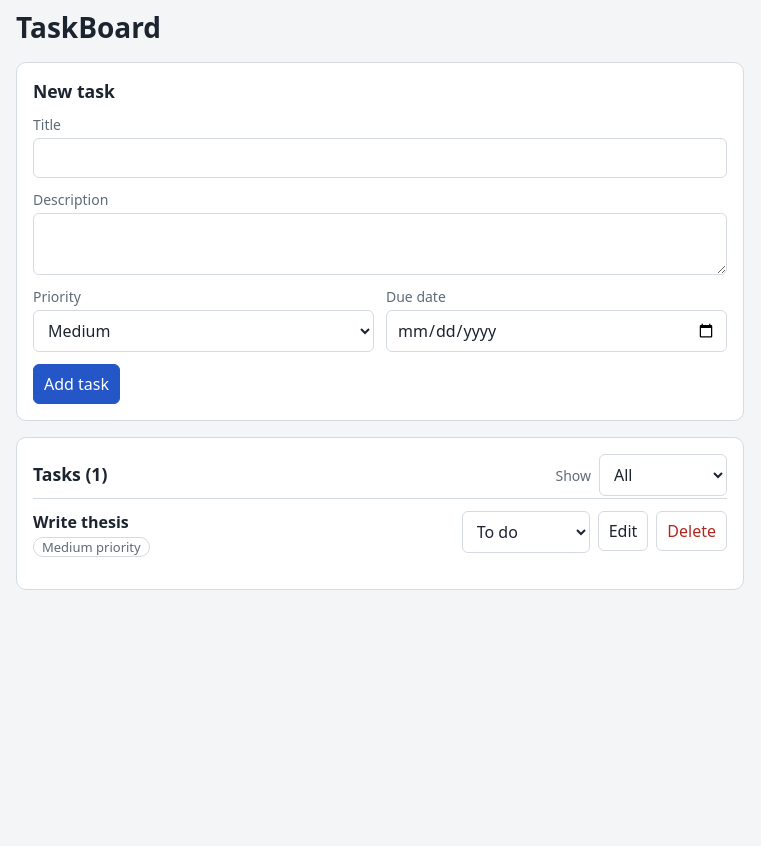
it: App › edits a task
The width and height of the screenshot is (761, 846).
Click the button with aria-label "Edit Write thesis" at (623, 531), box [598, 511, 648, 551]
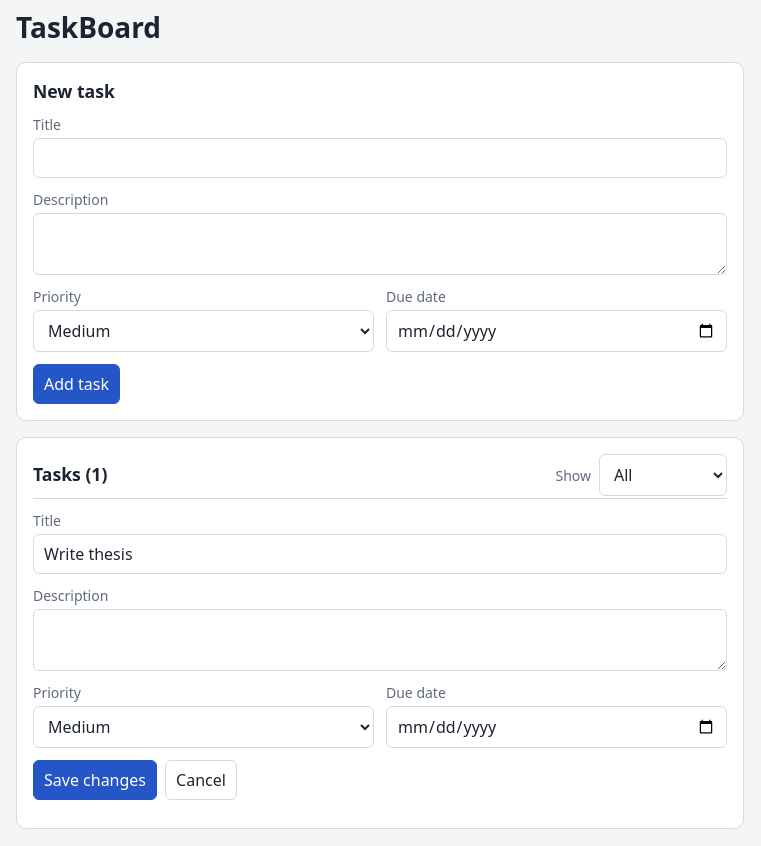
Replace the text in the field labelled "Title" below "Tasks (" with "Write thesis chapter 2" at (380, 554), box [33, 534, 727, 574]
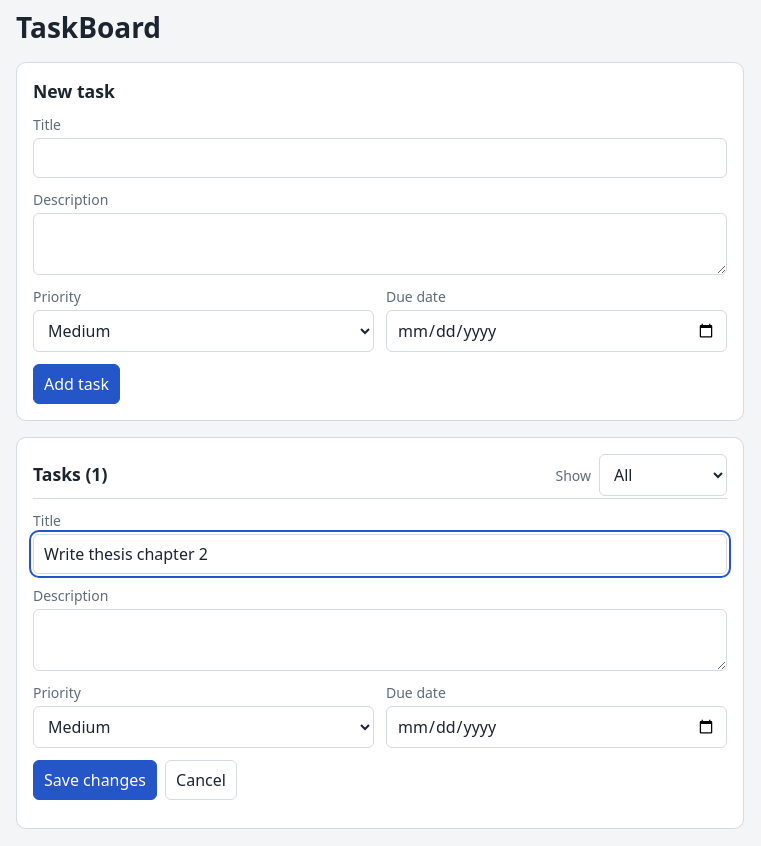
Click the button "Save changes" at (95, 780), box [33, 760, 157, 800]
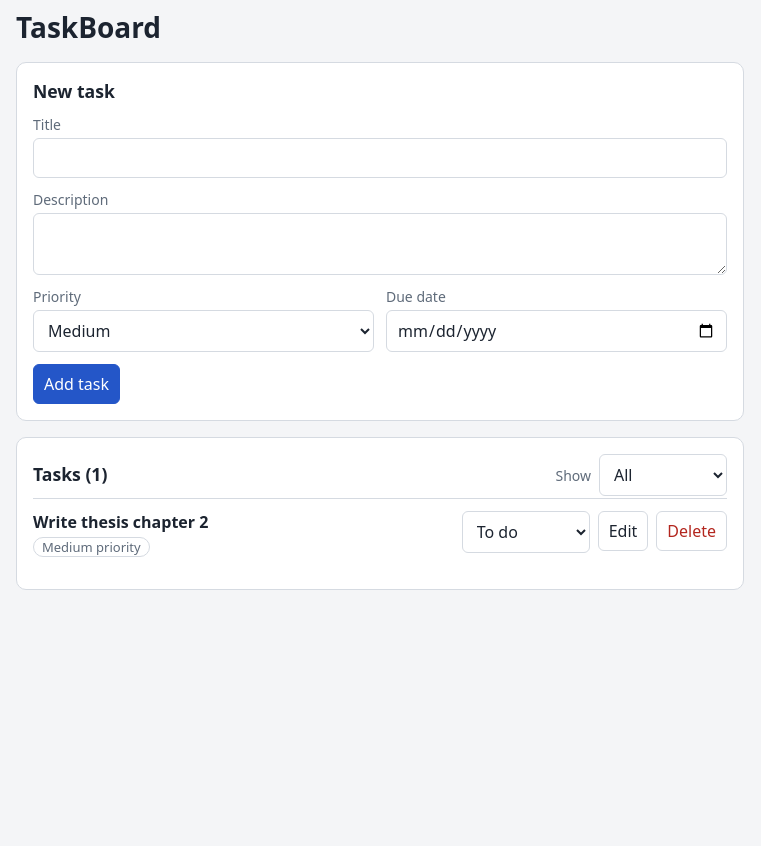
Expected: the heading "Write thesis chapter 2" is shown, [33, 511, 208, 533]
Expected: the button "Save changes" is gone
